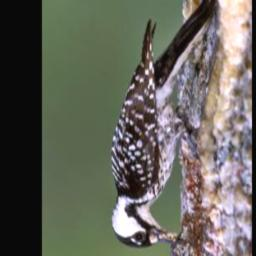Woodpecker: (108, 0, 215, 249)
